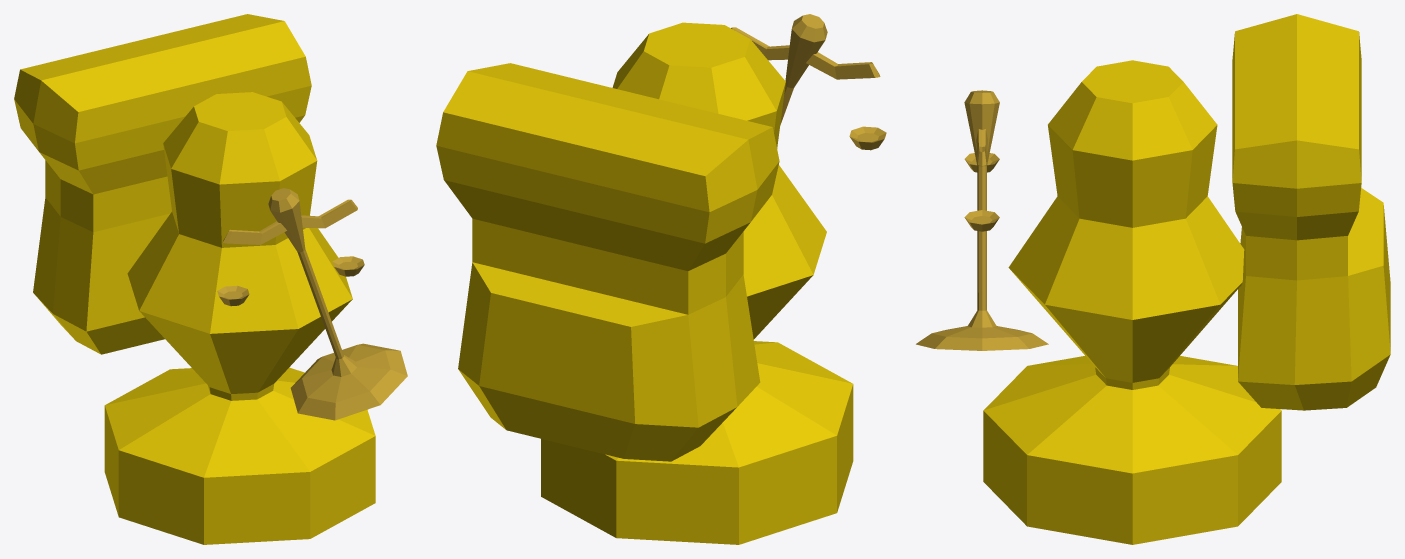
Rendered from Merchant Icon.fbx.
3 views of the same model, side by side, from view 1: azimuth 30°, elevation 25°; view 2: azimuth 150°, elevation 25°; view 3: azimuth 270°, elevation 25° (orthographic). The views are drawn at different scales.
Parts seen in each view (by area): view 1: Merchant; view 2: Merchant; view 3: Merchant.
Boxes of the visible parts, bbox=[...] form: Merchant: bbox=[14, 14, 407, 544]; Merchant: bbox=[436, 14, 886, 544]; Merchant: bbox=[916, 14, 1390, 544].
Size of the model in its own units: 90 by 126 by 134.
